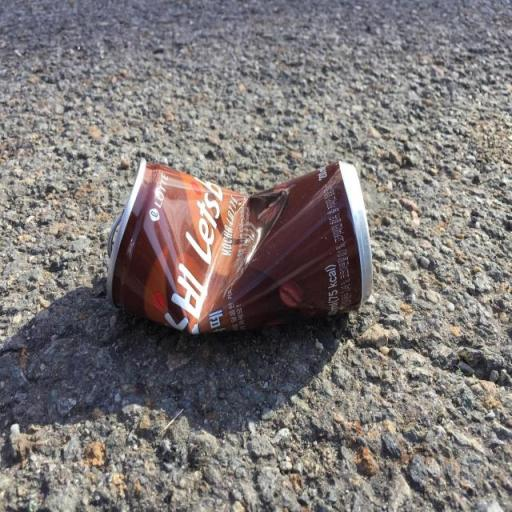metal: (74, 115, 396, 361)
